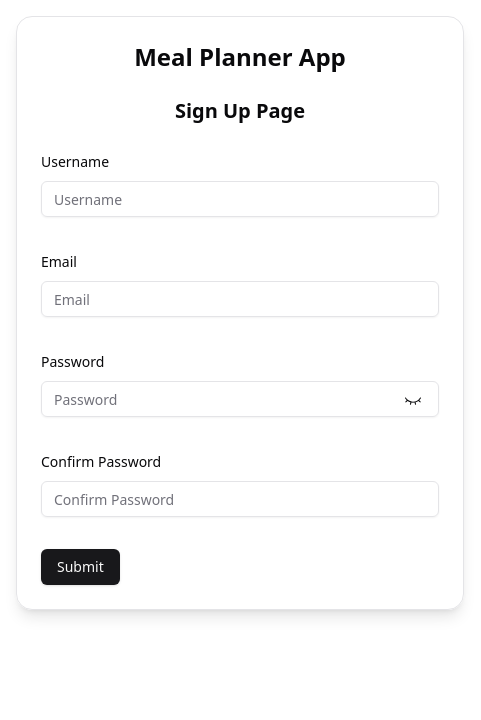
Test: SignupForm › displays validation errors when submitting empty form
This screenshot has width=481, height=720.
Click the button "Submit".
click(80, 567)  # box x1=41 y1=549 x2=120 y2=585
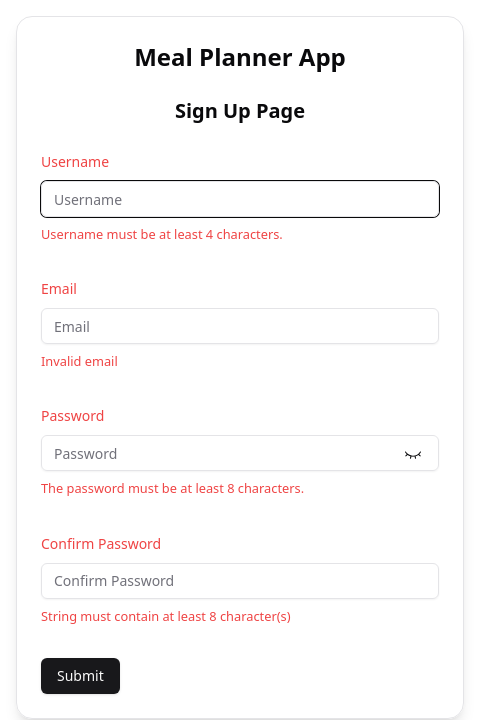
Check: the text "Username must be at least 4 characters." is shown 2 times, box x1=41 y1=225 x2=283 y2=243; x1=41 y1=479 x2=304 y2=497
Check: the text "Invalid email" is shown, box x1=41 y1=352 x2=118 y2=370
